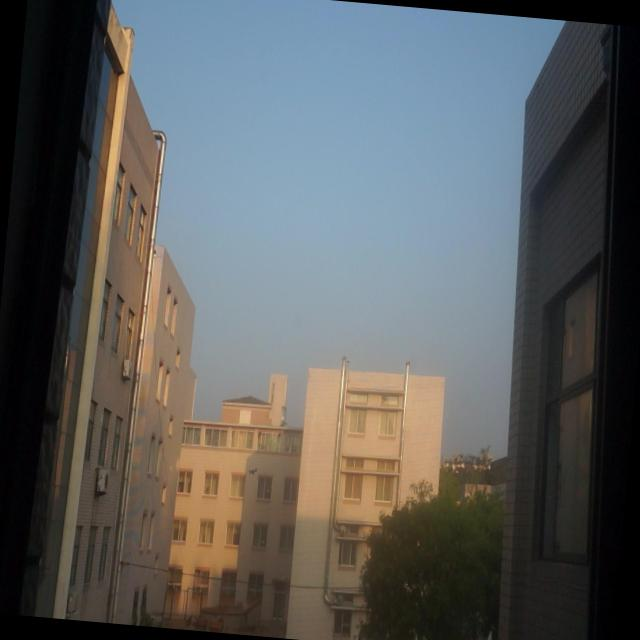drone: (245, 464, 258, 476)
